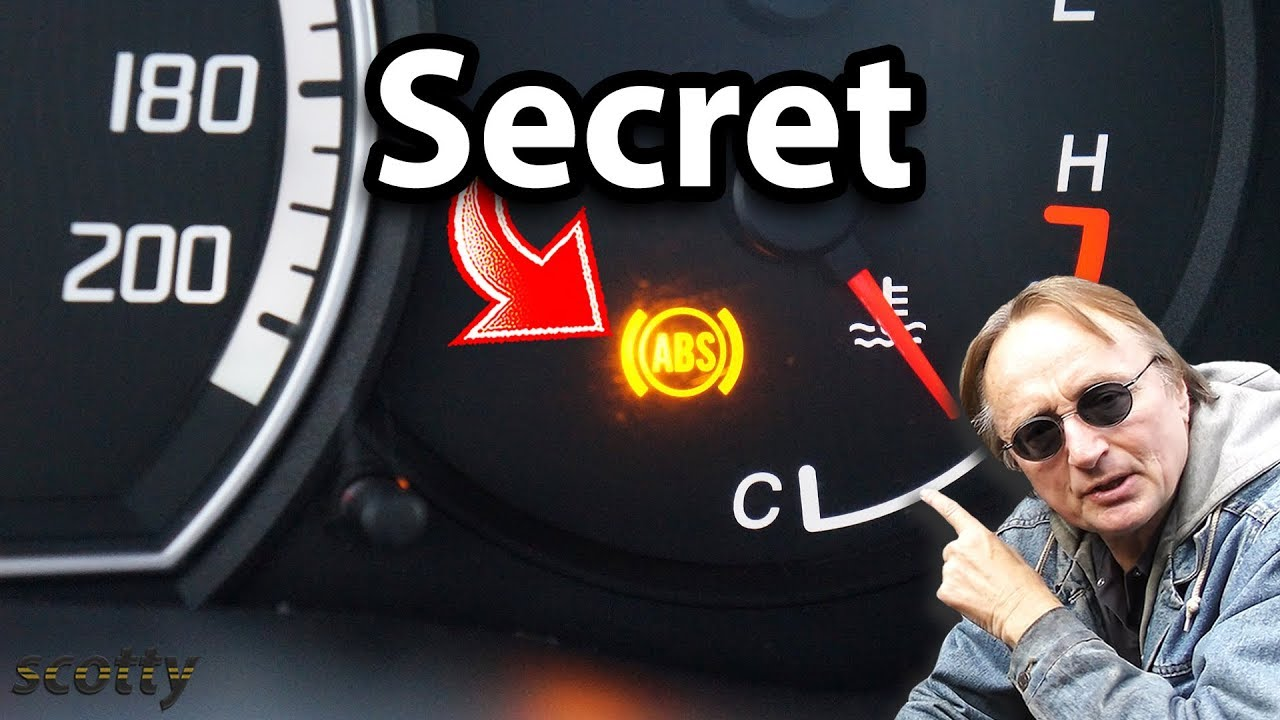ABS: (616, 296, 747, 399)
